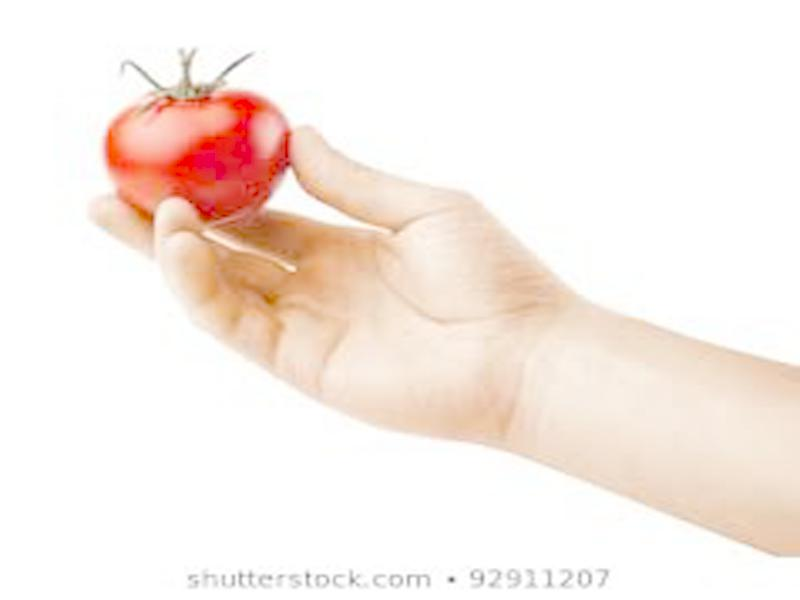Tomato: (101, 88, 292, 226)
